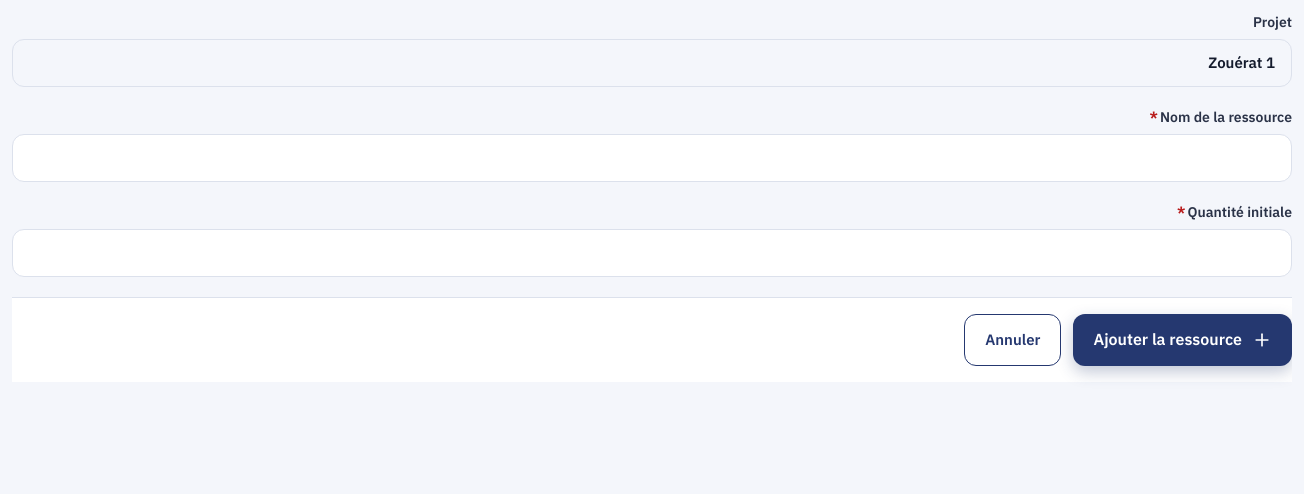
Scenario: ResourceForm › asks the supplier only once there is an initial quantity to charge
The image size is (1304, 494).
Expected: the field labelled "Fournisseur" is not shown
Type "4" into the number field labelled "Quantité initiale" at (652, 253), box [12,229,1292,277]
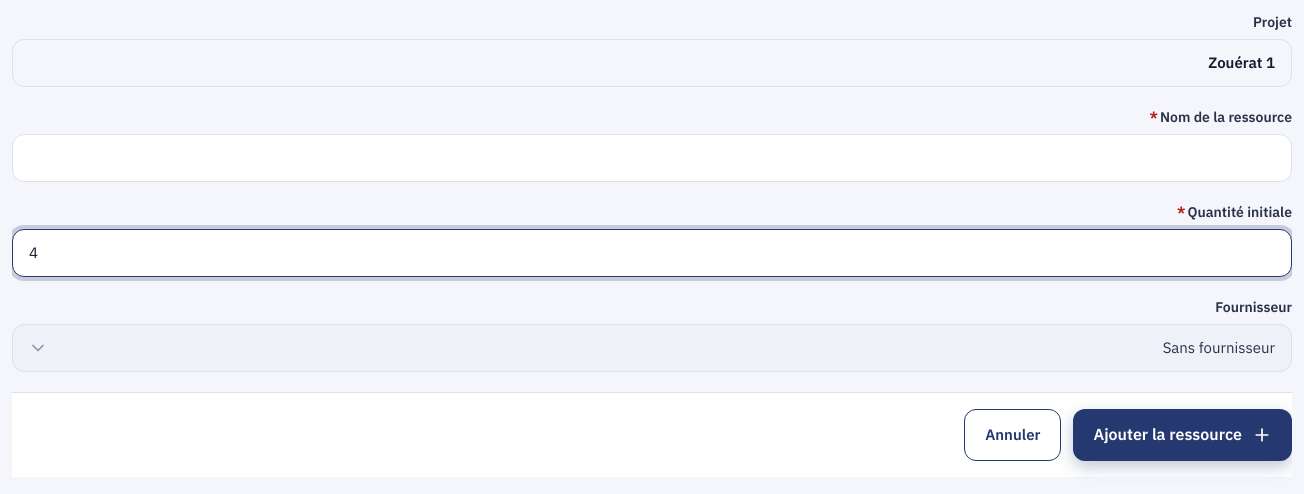
Expected: the dropdown labelled "Fournisseur" is shown, [12,324,1292,372]
